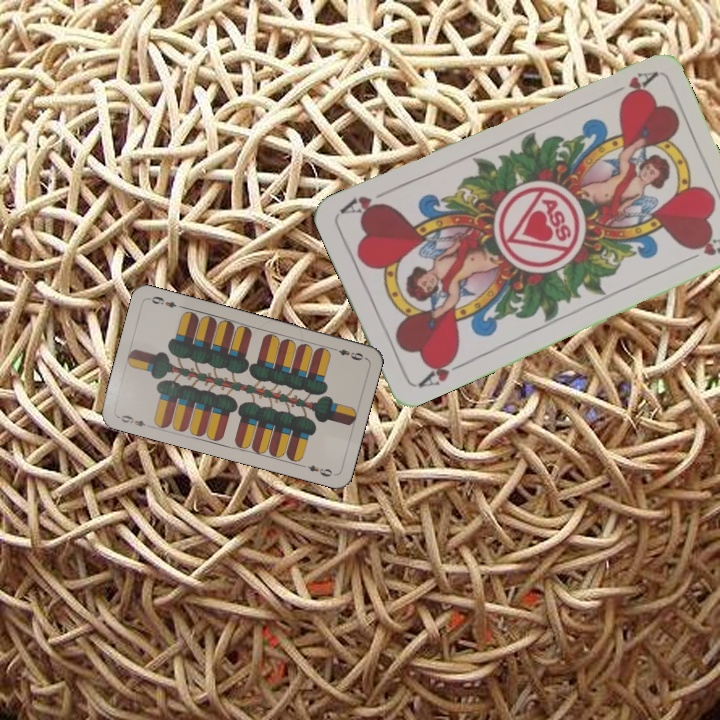E9: (114, 411, 154, 430), (328, 344, 366, 363)
HA: (413, 351, 468, 391), (602, 67, 659, 105)
